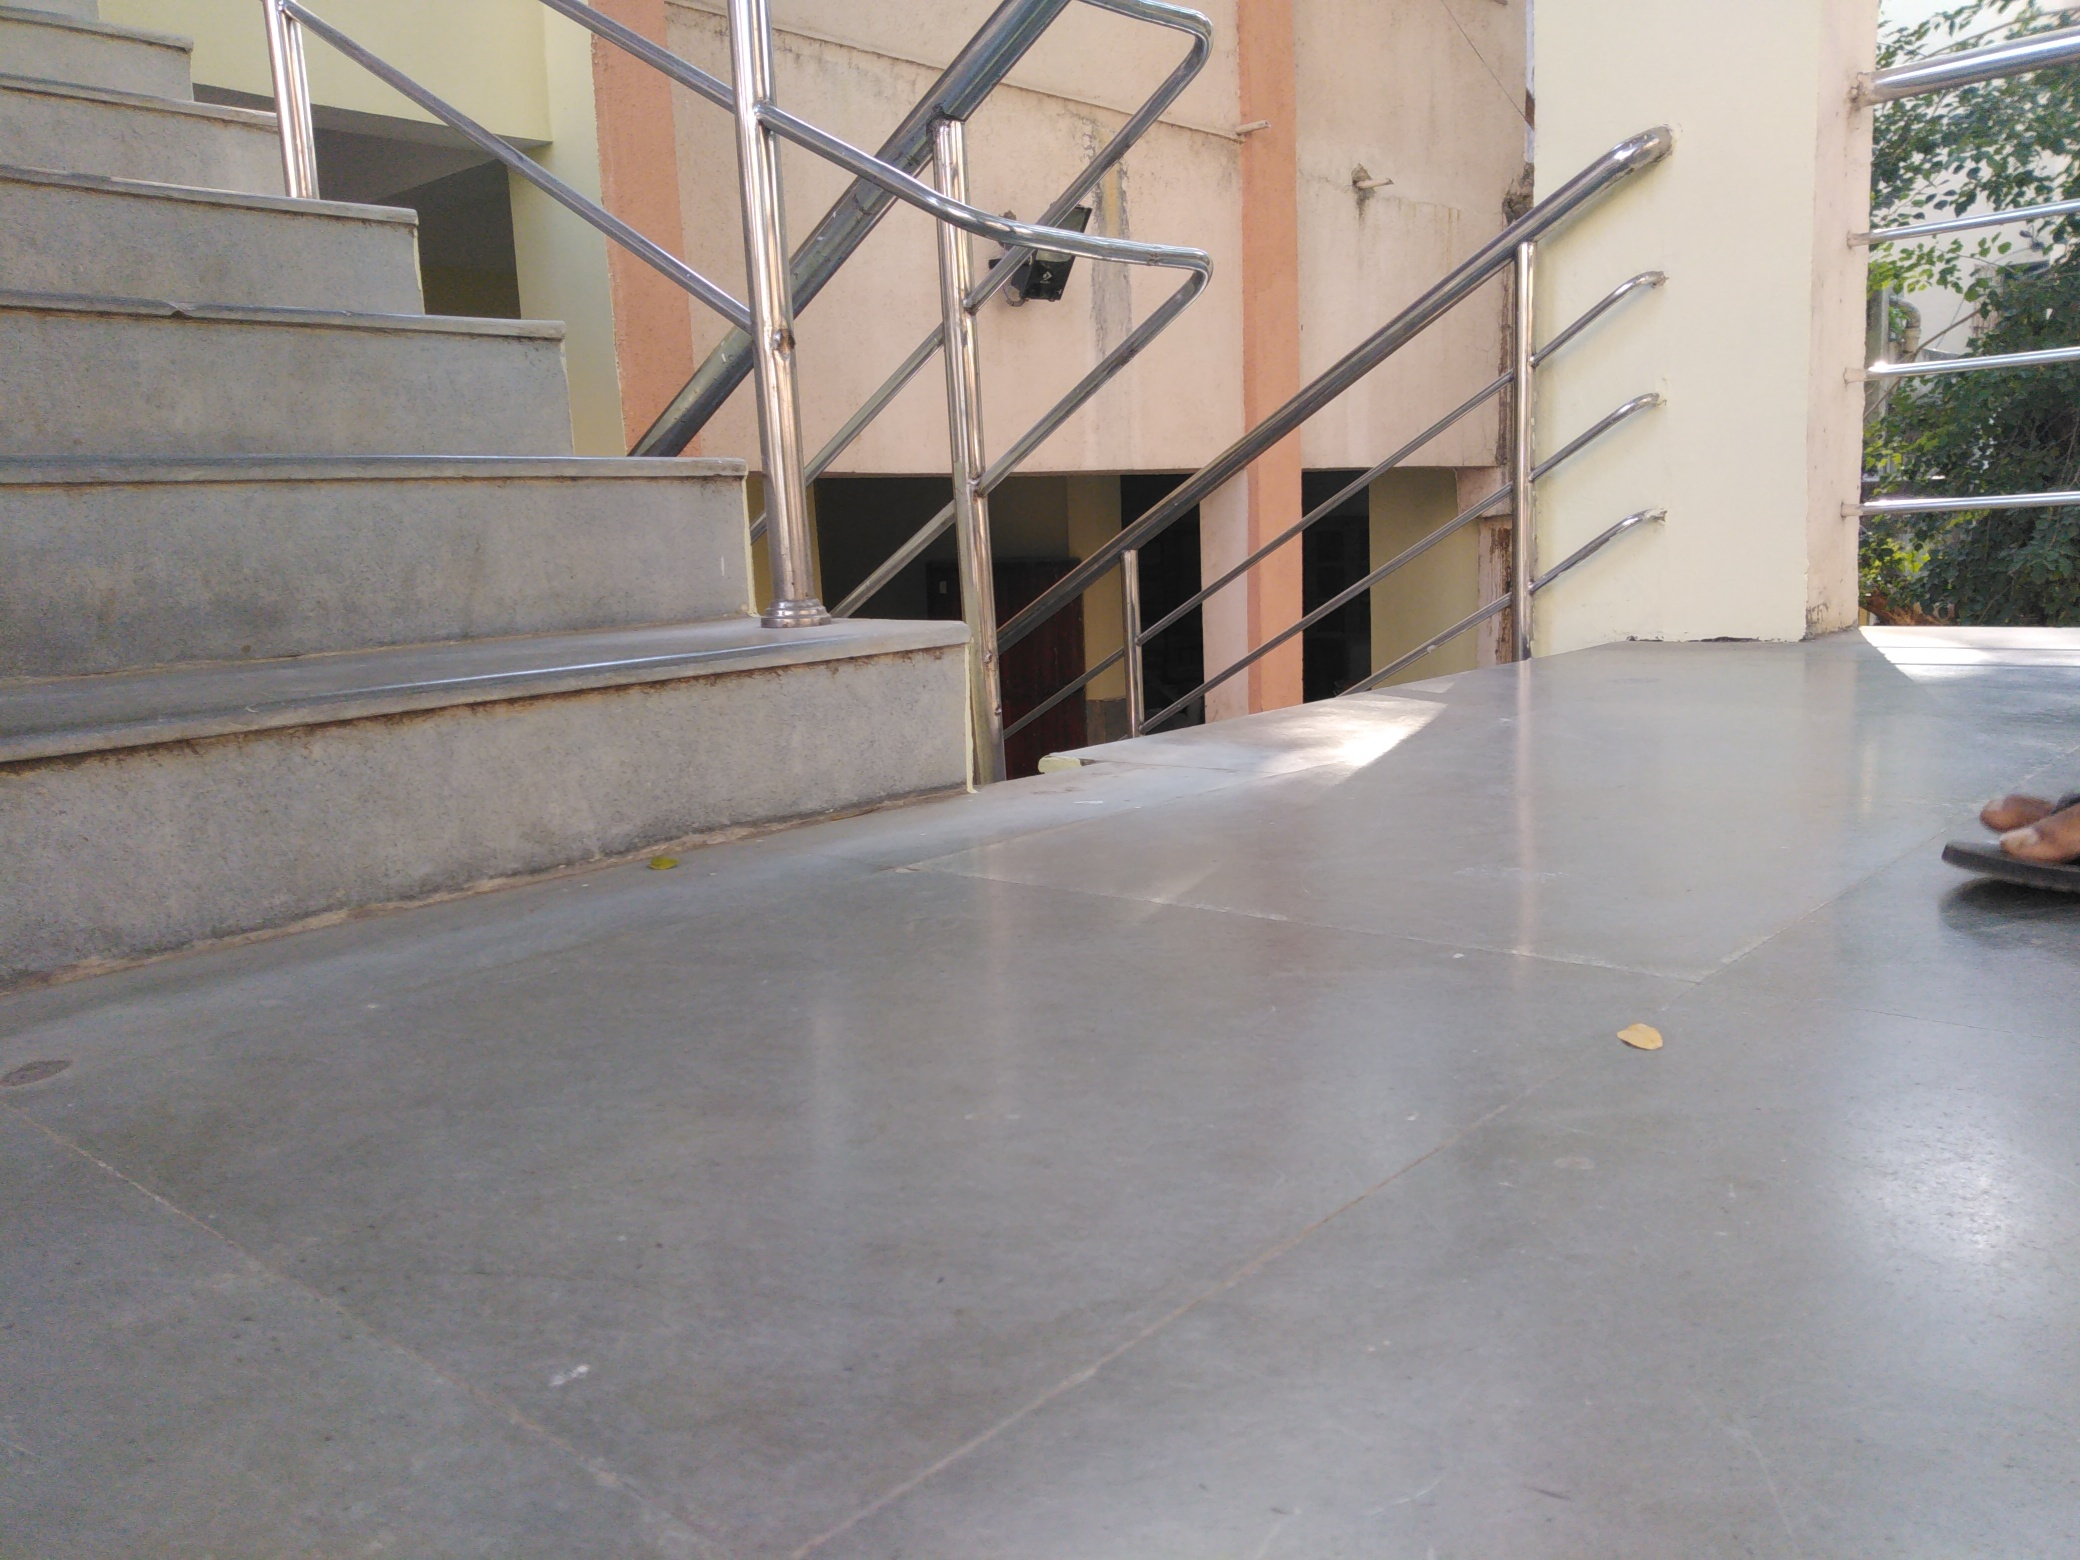stairs_up: (11, 8, 965, 901)
